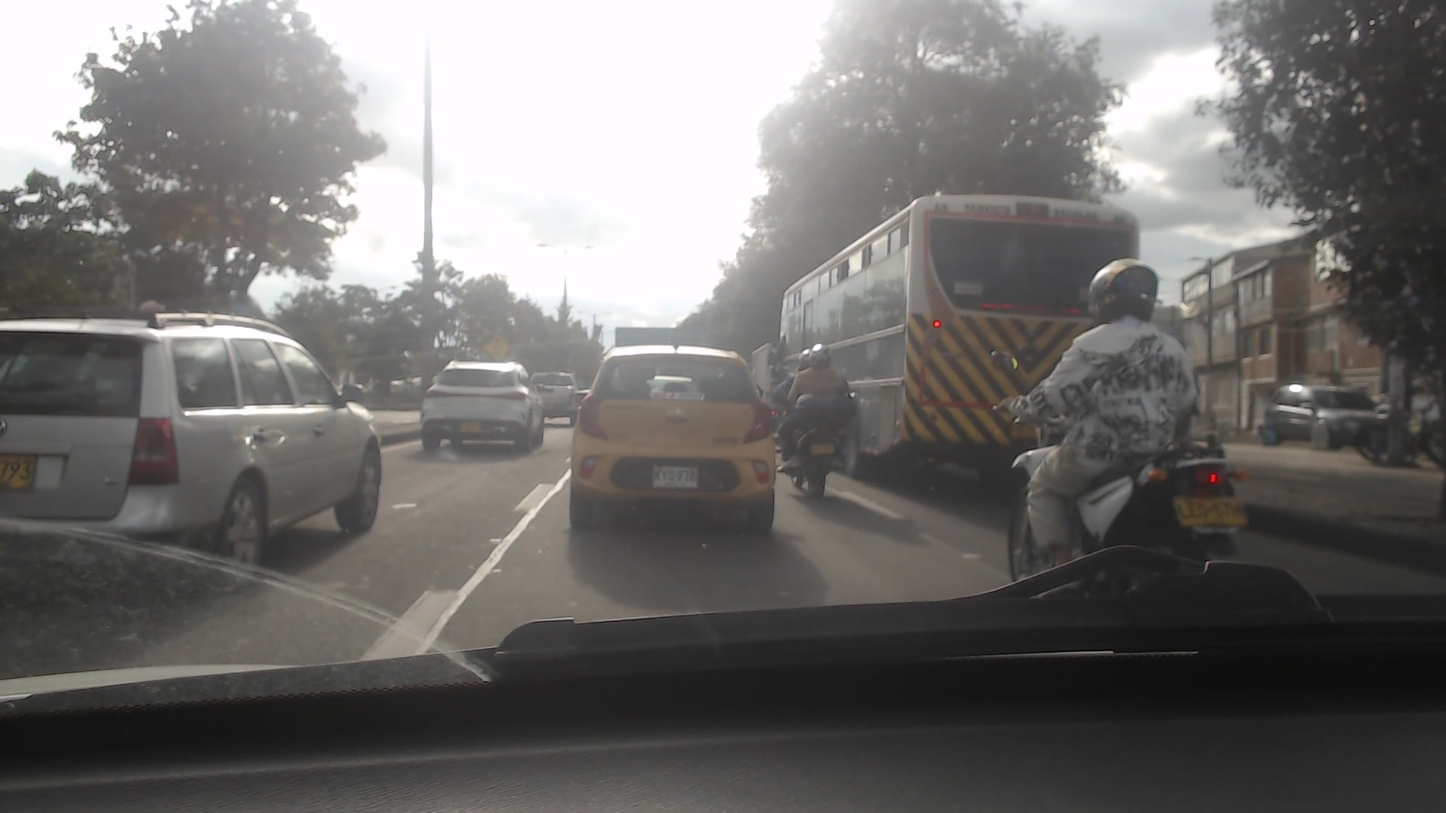bus: (776, 192, 1140, 437)
car: (0, 315, 386, 577), (565, 346, 776, 533), (413, 355, 550, 450), (528, 370, 580, 423)
motorcycle: (993, 365, 1256, 599), (780, 402, 843, 493)
person: (1024, 252, 1201, 570), (794, 344, 853, 467)
